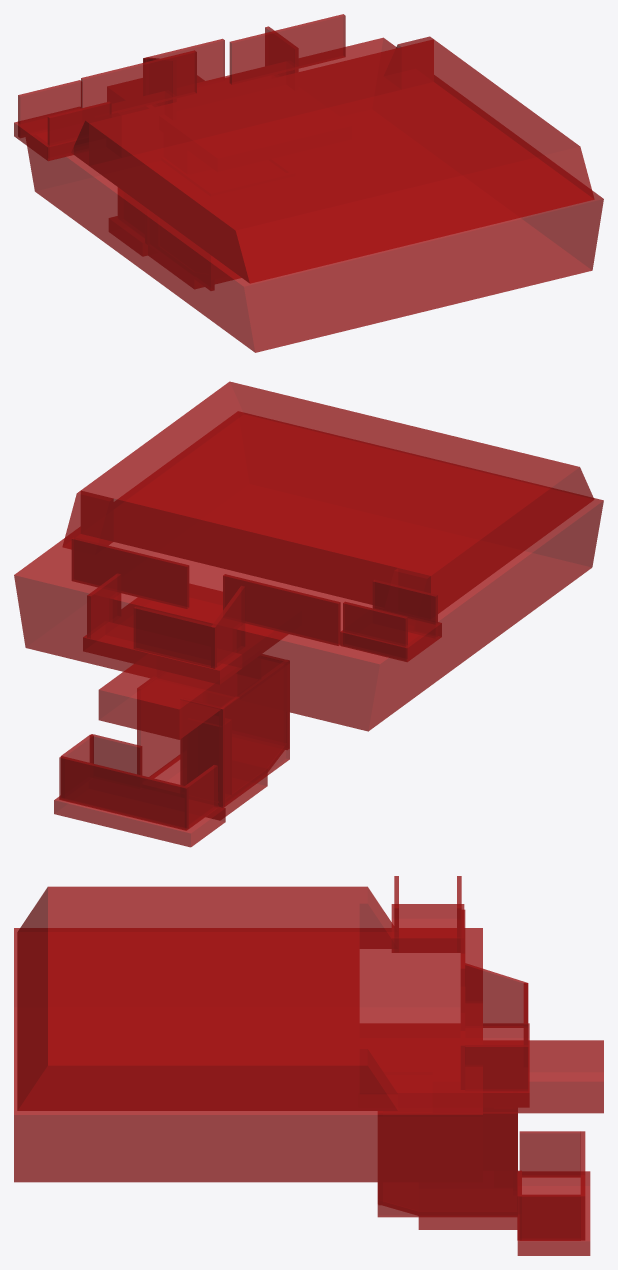
Rendered from SM_Bld_Crane_01_Winch_Control_Collision.fbx.
3 views of the same model, one above another, from view 1: azimuth 30°, elevation 25°; view 2: azimuth 150°, elevation 25°; view 3: azimuth 270°, elevation 25° (orthographic). The views are drawn at different scales.
Parts seen in each view (by area): view 1: SM_Bld_Crane_01_Winch_Control_Collision; view 2: SM_Bld_Crane_01_Winch_Control_Collision; view 3: SM_Bld_Crane_01_Winch_Control_Collision.
Boxes of the visible parts, <box> form: SM_Bld_Crane_01_Winch_Control_Collision: <box>14,14,603,352</box>; SM_Bld_Crane_01_Winch_Control_Collision: <box>14,381,603,847</box>; SM_Bld_Crane_01_Winch_Control_Collision: <box>14,876,603,1255</box>.
Bounding box in the file's own units: 1028 × 569 × 1305.
